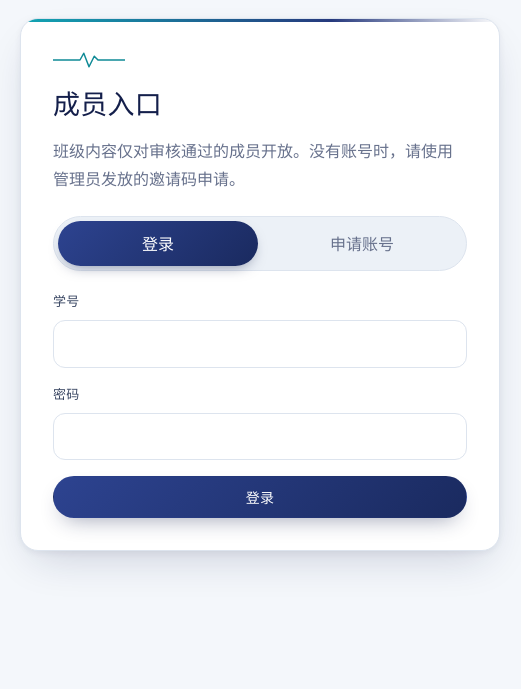
LoginView › shows the server error and stays in register mode on failure
Click the tab "申请账号" at (362, 244), box [262,221,462,266]
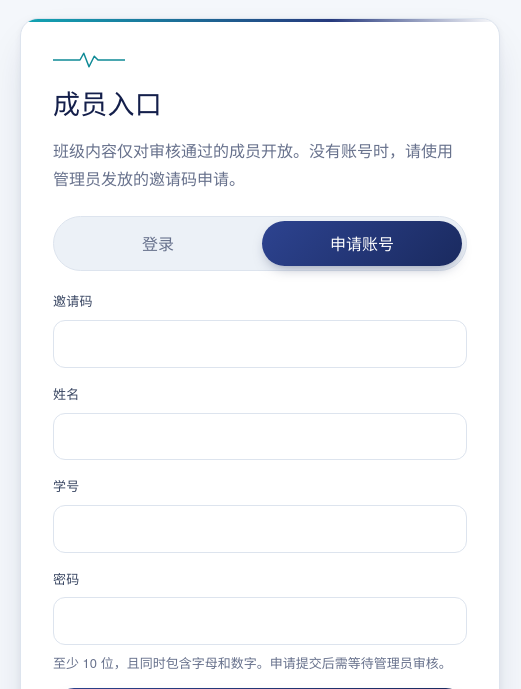
Type "INVITE-CODE" into the field with id "invite" at (260, 344), box [53,320,467,368]
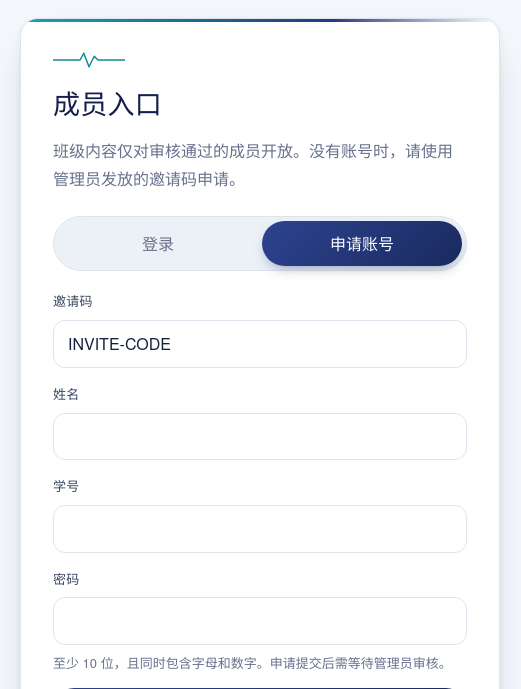
Type "测试成员" into the field with id "name" at (260, 436), box [53,413,467,460]
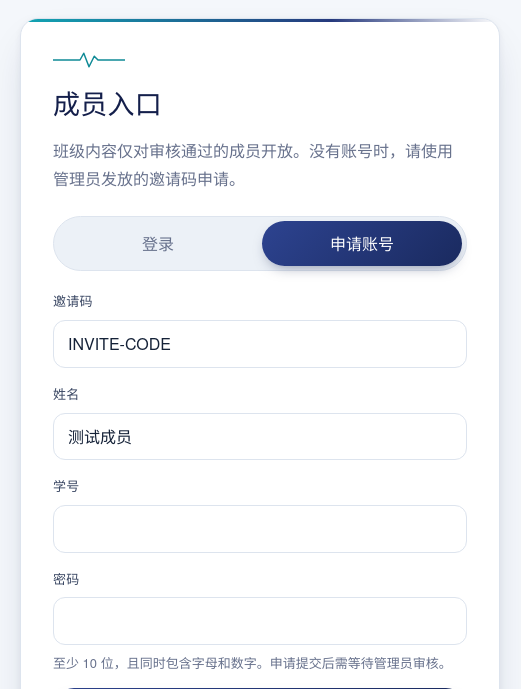
Type "2510305301" into the field with id "student-number" at (260, 529), box [53,505,467,553]
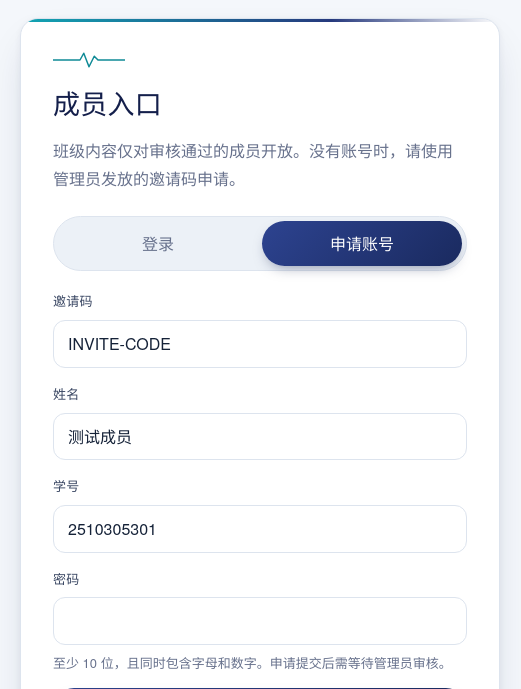
Type "password123" into the password field labelled "密码" at (260, 621), box [53,597,467,645]
(page scrolled)
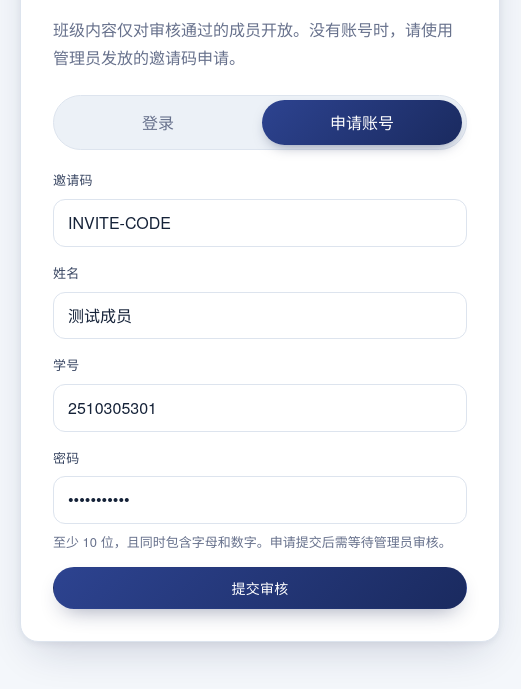
Submit the form, box [53,170,467,610]
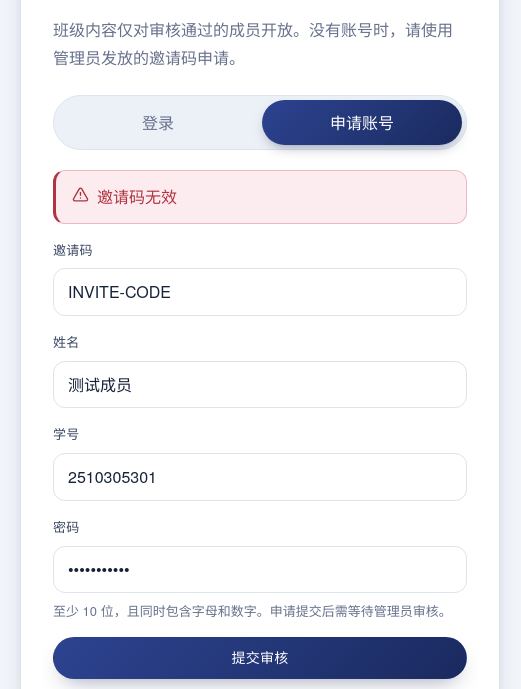
Now the message with class "error" reads "邀请码无效", box [97,185,177,208]
